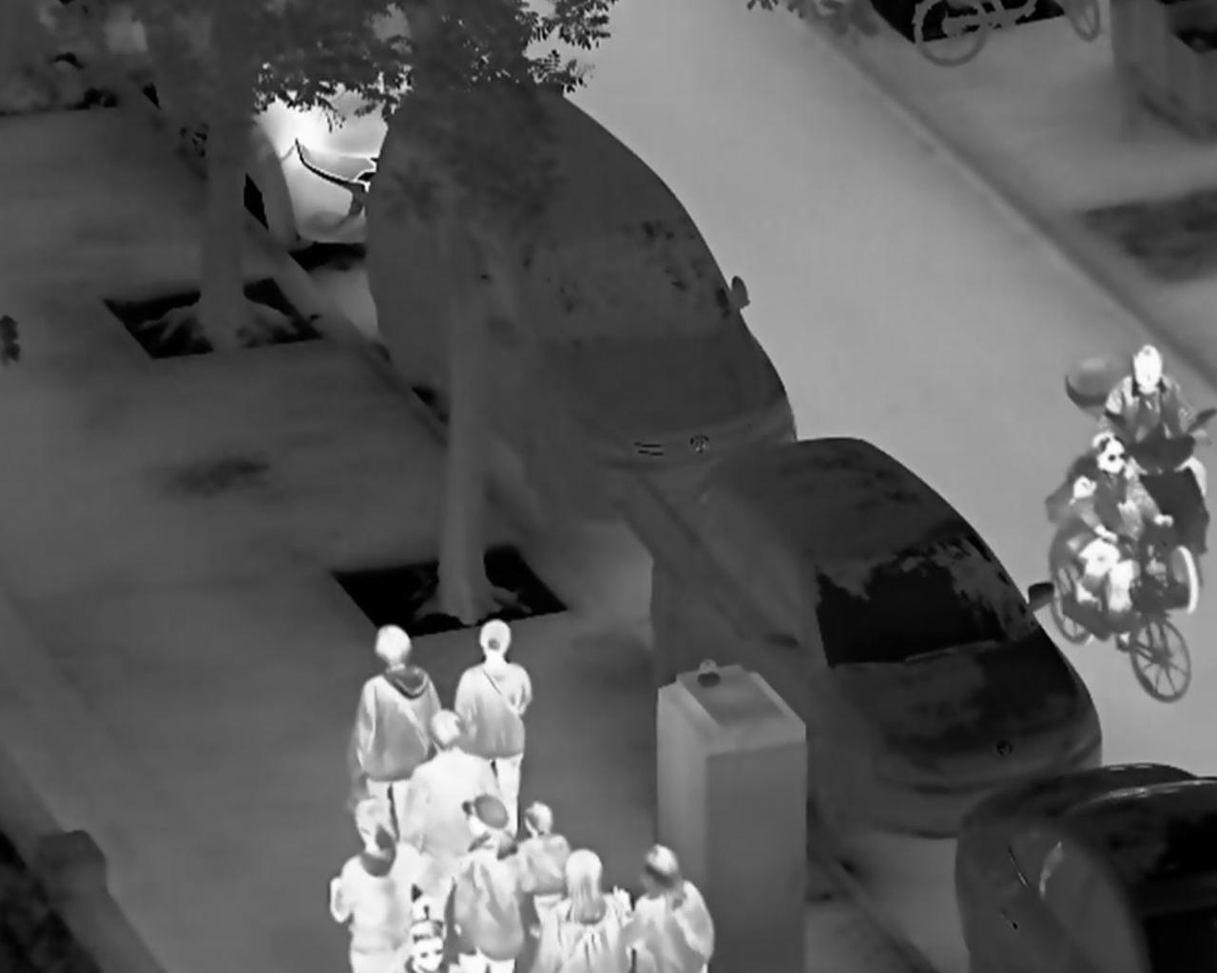person: (347, 622, 445, 847), (1072, 431, 1176, 634), (399, 707, 501, 913), (330, 795, 444, 973), (1087, 344, 1207, 511), (455, 617, 532, 845), (447, 794, 527, 973), (533, 846, 626, 973), (629, 843, 718, 973)
